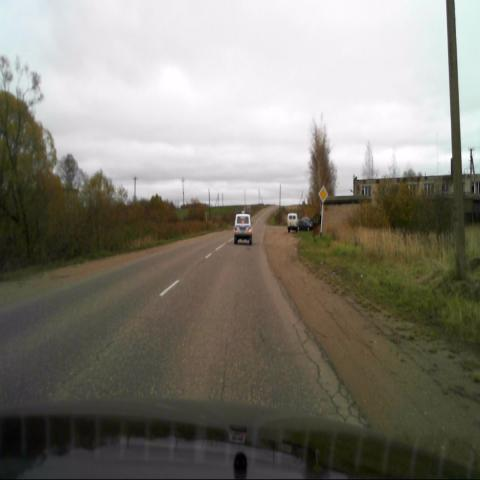2_1: (318, 186, 328, 204)
